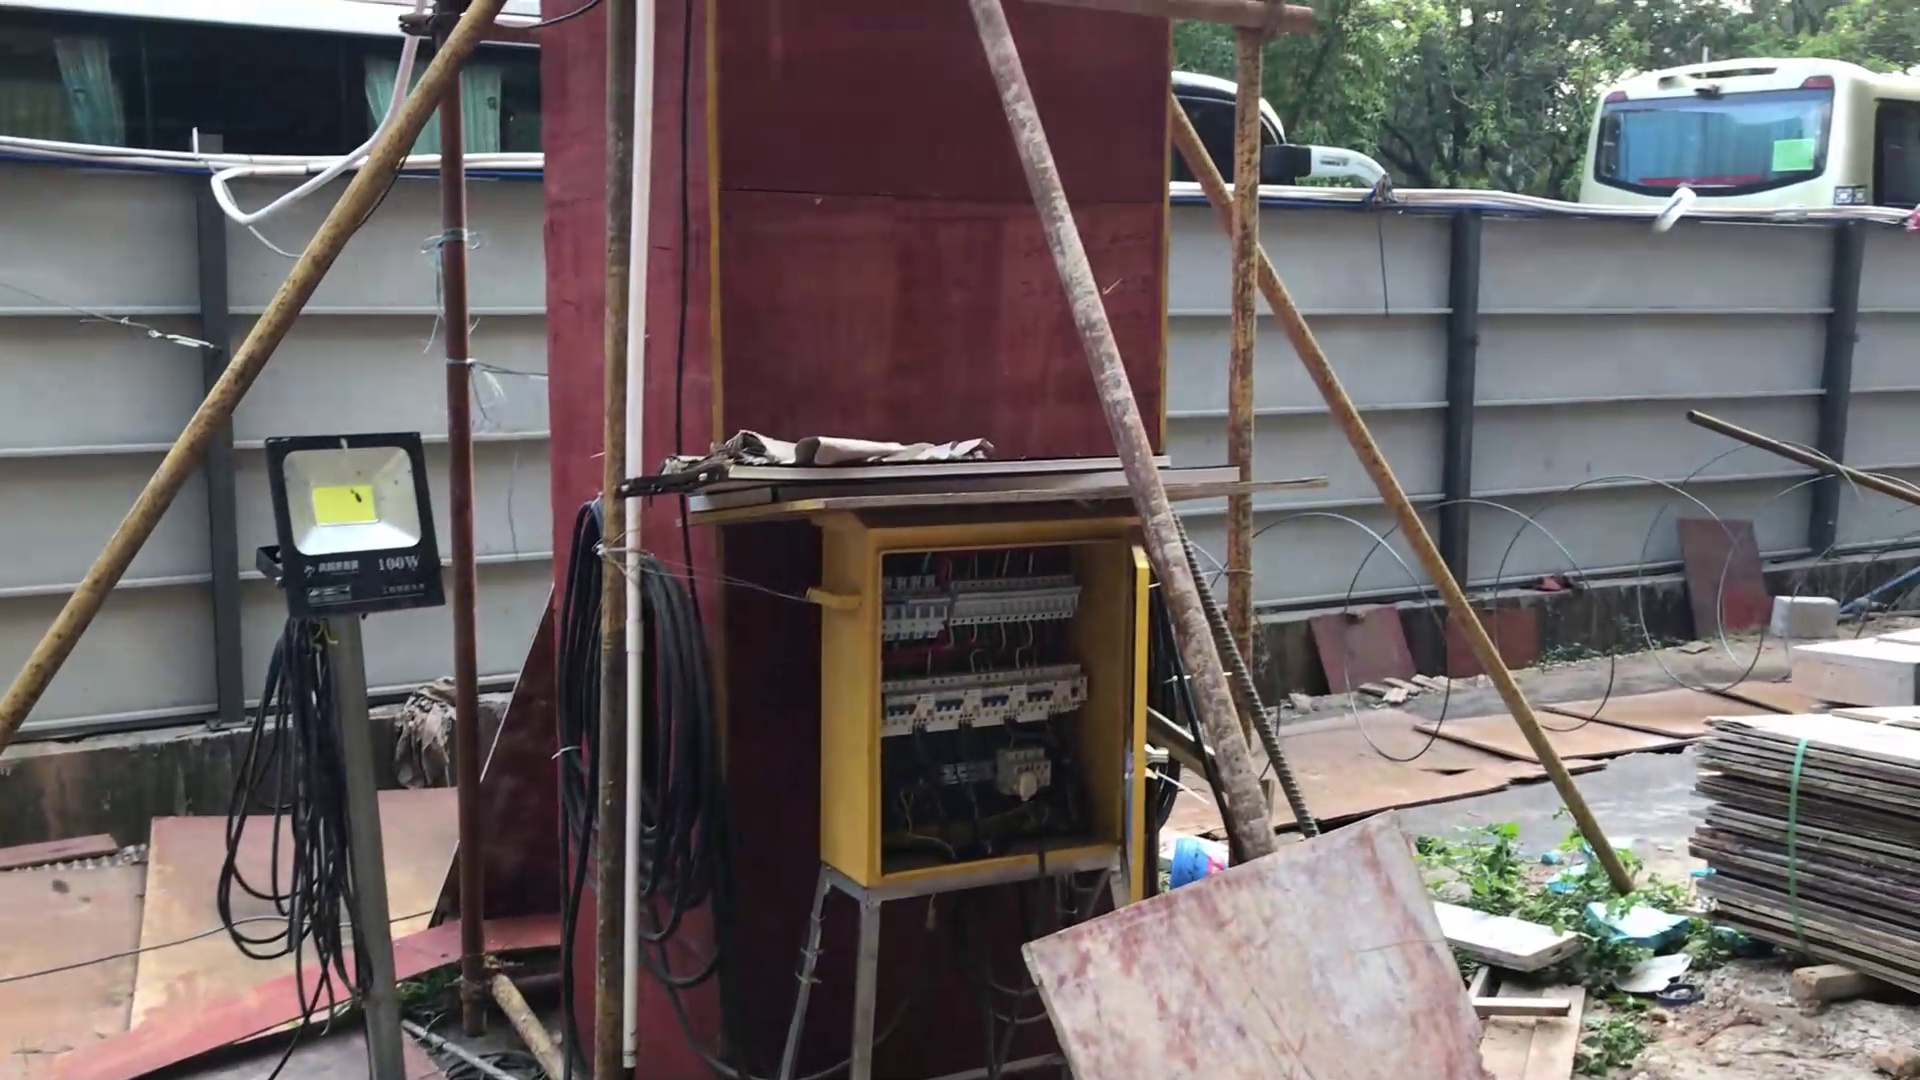board: (1681, 690, 1920, 1007)
ebox: (753, 459, 1172, 1080)
